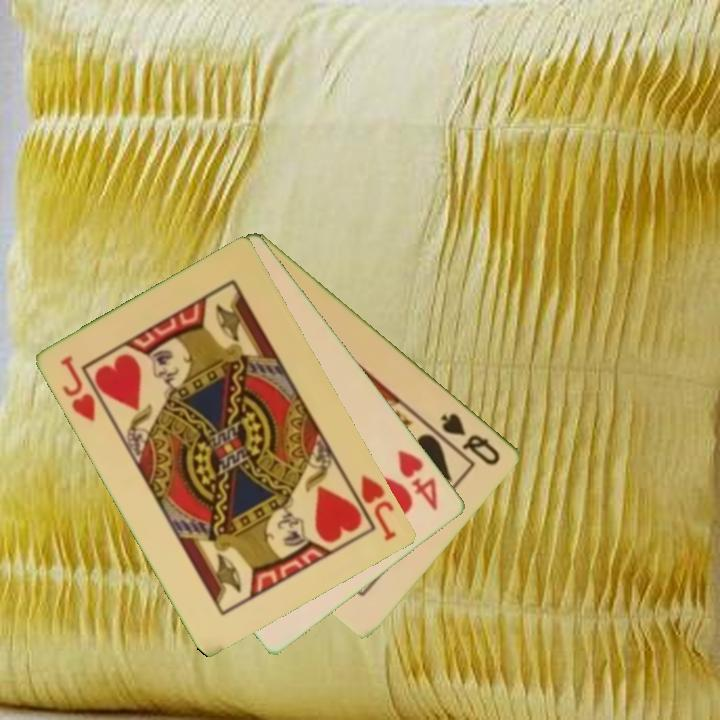4h: (394, 446, 442, 514)
Jh: (343, 471, 400, 545), (57, 352, 100, 425)
Qs: (438, 409, 504, 469)
